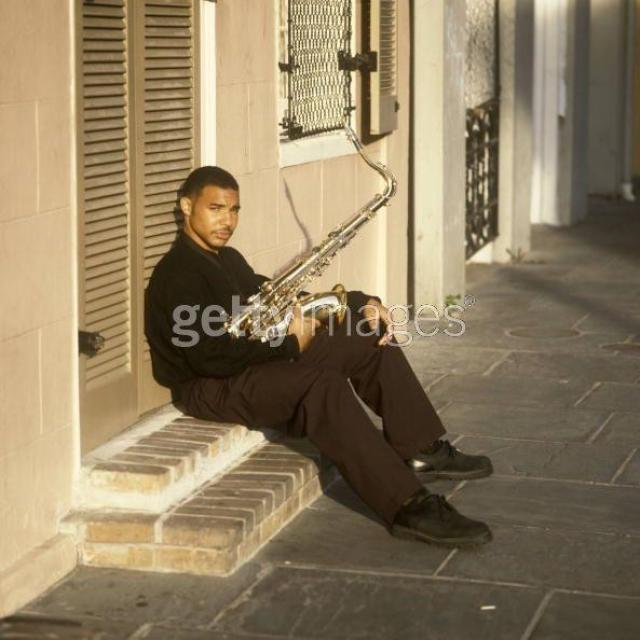saxophone: (223, 113, 400, 350)
